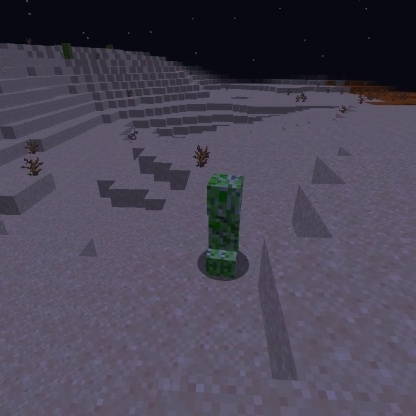creeper: (198, 171, 247, 283)
